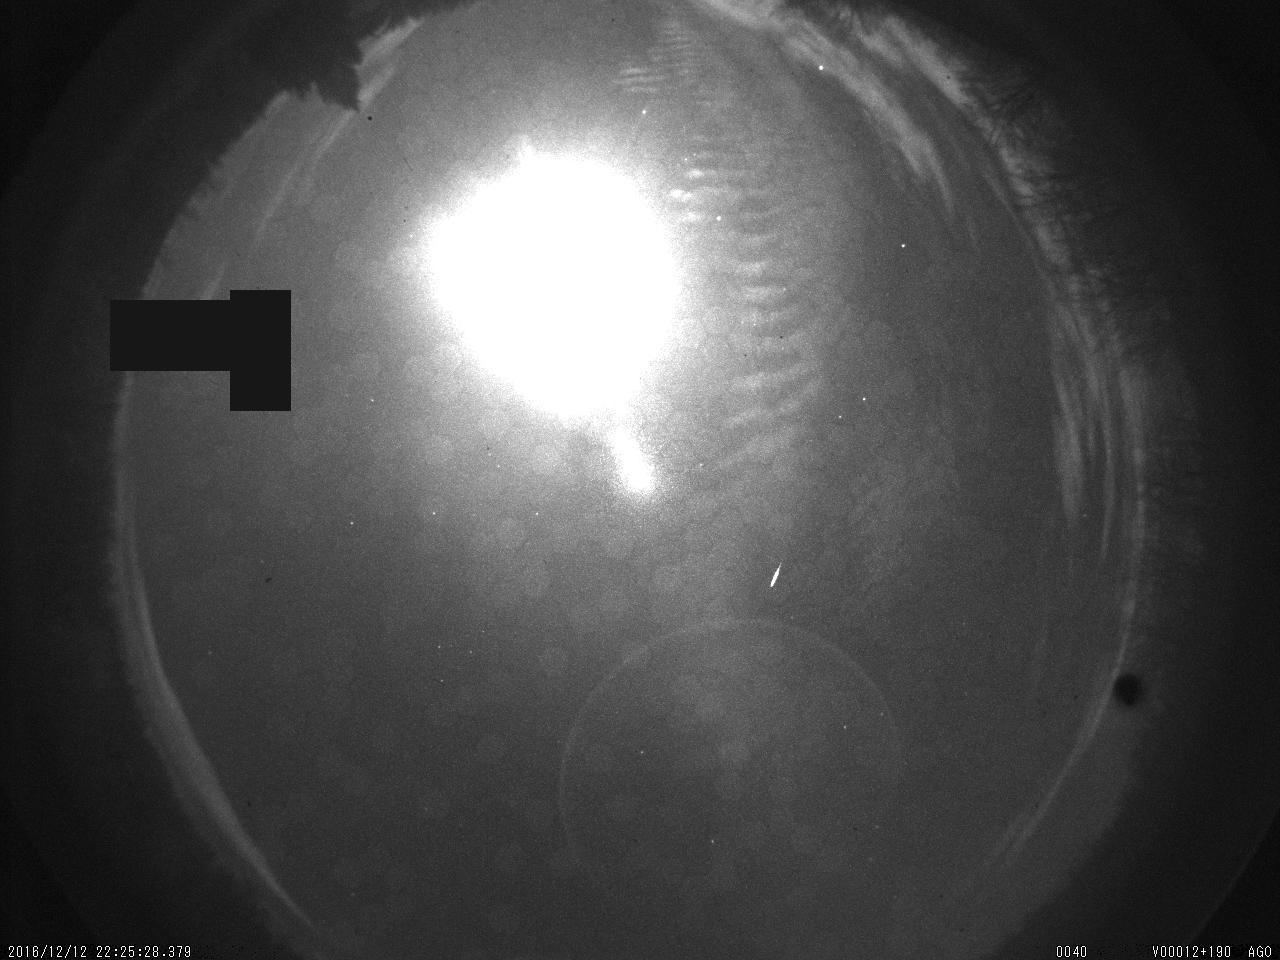meteor: (764, 553, 794, 594)
